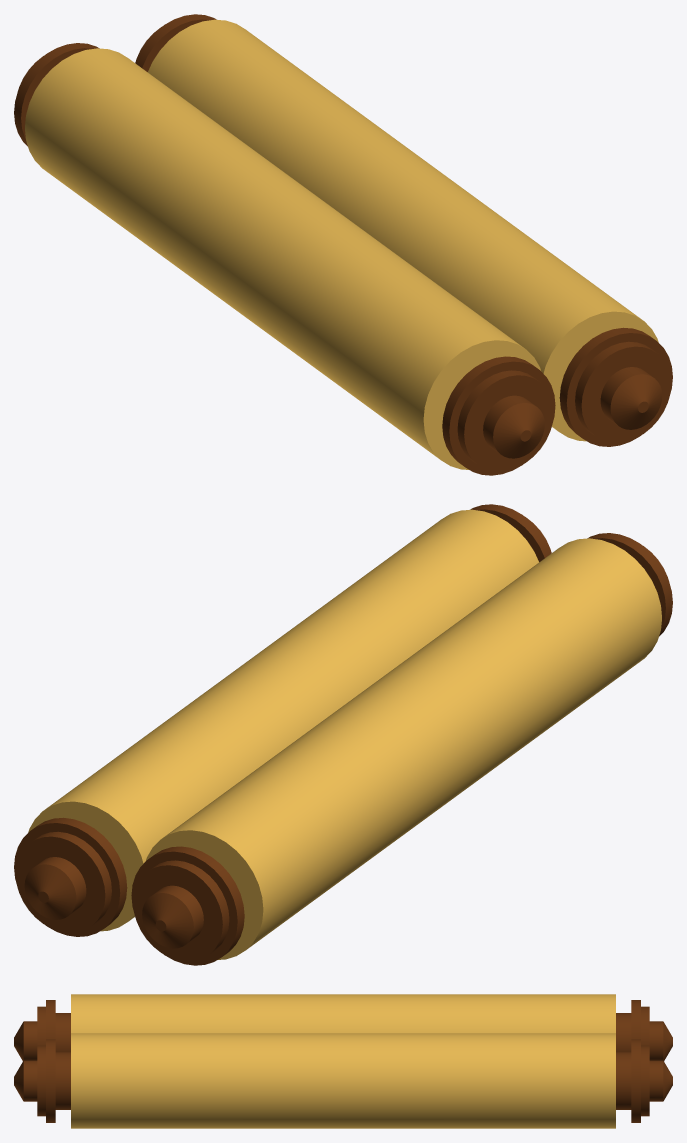
File: Scrolls.fbx
3 renders of one model, top to bottom at view 1: azimuth 30°, elevation 25°; view 2: azimuth 150°, elevation 25°; view 3: azimuth 270°, elevation 25°, orthographic. The views are drawn at different scales.
Parts seen in each view (by area): view 1: Cylinder; view 2: Cylinder; view 3: Cylinder.
Part boxes in pixels (x1,y1,x2,y2): Cylinder: (14, 14, 672, 475); Cylinder: (14, 504, 672, 965); Cylinder: (14, 994, 672, 1128).
Size of the model in its own units: 41.05 by 20.84 by 144.
